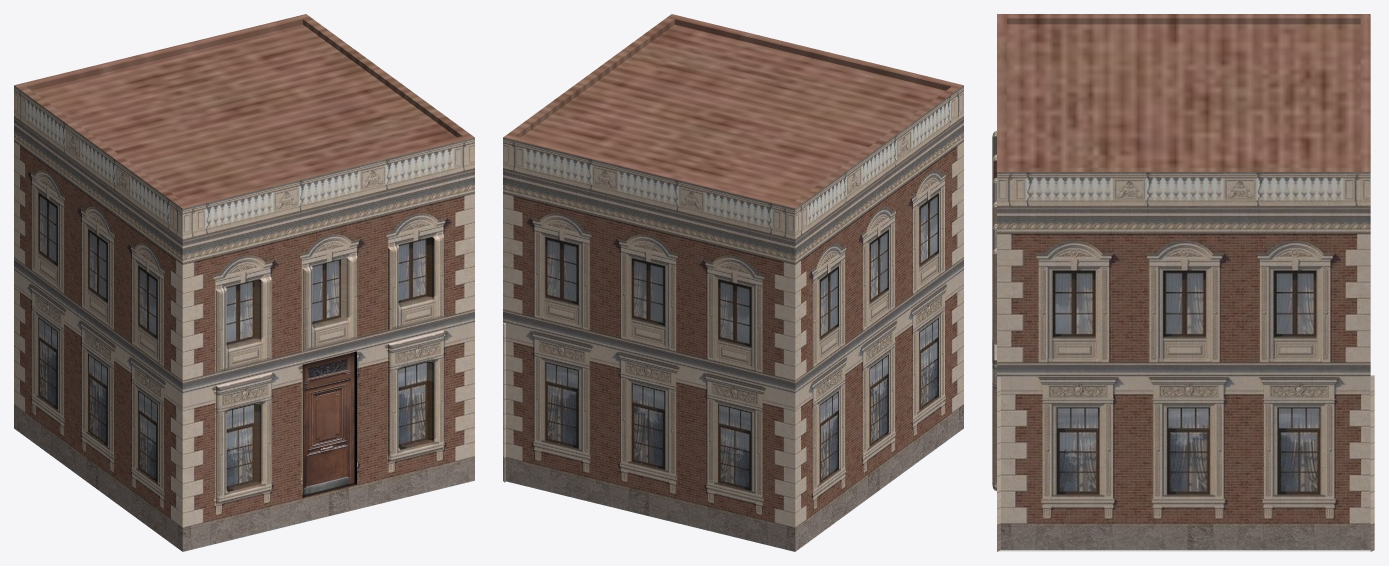
The model's file is bldg_lowpoly.glb.
3 views of the same model, side by side, from view 1: azimuth 30°, elevation 25°; view 2: azimuth 150°, elevation 25°; view 3: azimuth 270°, elevation 25° (orthographic). The views are drawn at different scales.
Visible parts, largest first — view 1: Plane.003_Material_0, Plane.003_Material.002_0, Plane.003_Material.001_0; view 2: Plane.003_Material_0, Plane.003_Material.002_0; view 3: Plane.003_Material_0, Plane.003_Material.002_0.
Boxes of the visible parts, bbox=[...] form: Plane.003_Material_0: bbox=[14, 14, 474, 551]; Plane.003_Material.002_0: bbox=[14, 174, 431, 500]; Plane.003_Material.001_0: bbox=[302, 351, 356, 497]; Plane.003_Material_0: bbox=[503, 14, 963, 551]; Plane.003_Material.002_0: bbox=[503, 174, 963, 500]; Plane.003_Material_0: bbox=[992, 14, 1374, 551]; Plane.003_Material.002_0: bbox=[997, 270, 1370, 493].
Size of the model in its own units: 6.17 by 6.92 by 6.31.
Materials: 3 (3 with a texture image).
